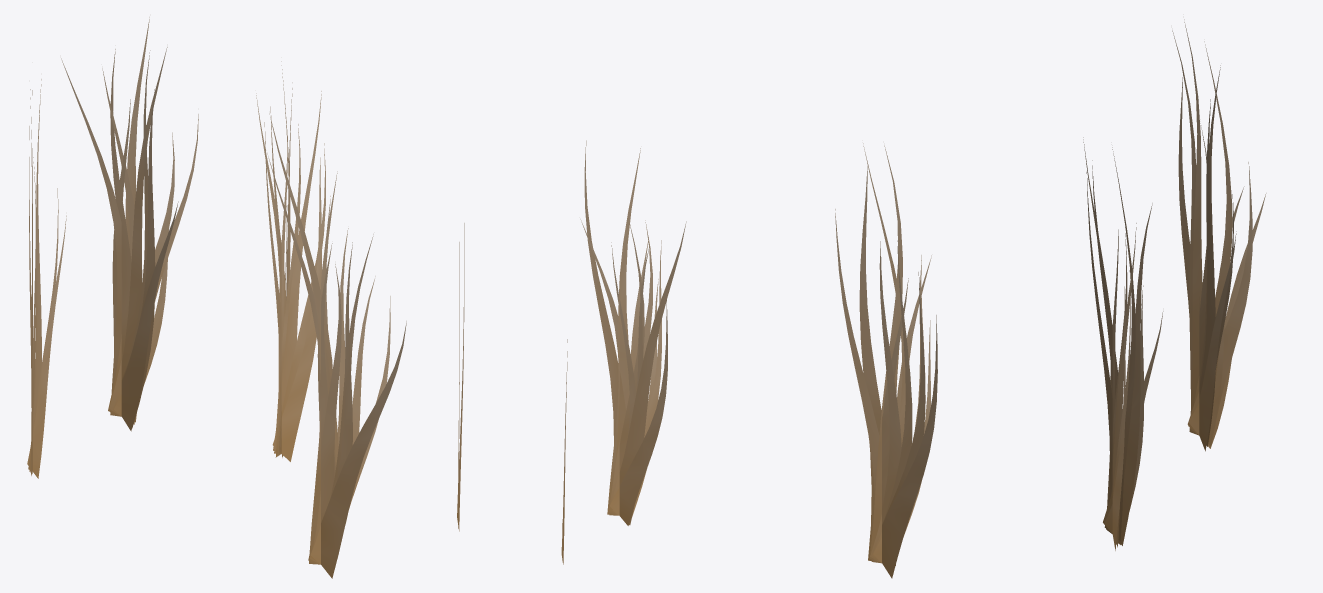
Rendered from mesh-plant-028-ghost-fan_LOD0.glb.
3 views of the same model, side by side, from view 1: azimuth 30°, elevation 25°; view 2: azimuth 150°, elevation 25°; view 3: azimuth 270°, elevation 25° (orthographic). The views are drawn at different scales.
Parts seen in each view (by area): view 1: geometry_0; view 2: geometry_0; view 3: geometry_0.
Part boxes in pixels (x1,y1,x2,y2): geometry_0: (27,17,464,578); geometry_0: (561,140,686,564); geometry_0: (835,19,1266,578).
Bounding box in the file's own units: 1.22 × 1.71 × 1.73.
